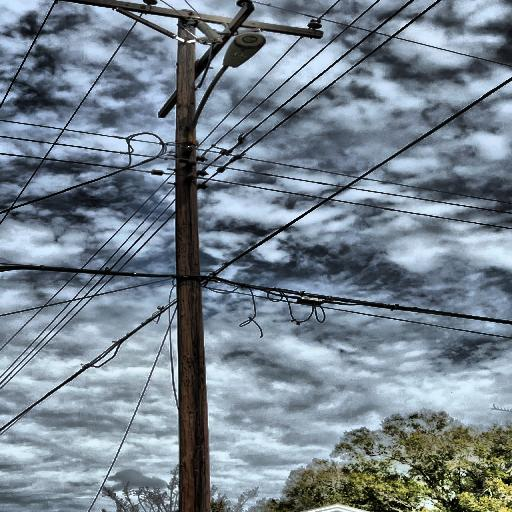insulator: (304, 17, 326, 29), (234, 0, 253, 8), (142, 0, 158, 5)
pole: (154, 1, 226, 512)
street light: (176, 32, 268, 152)
